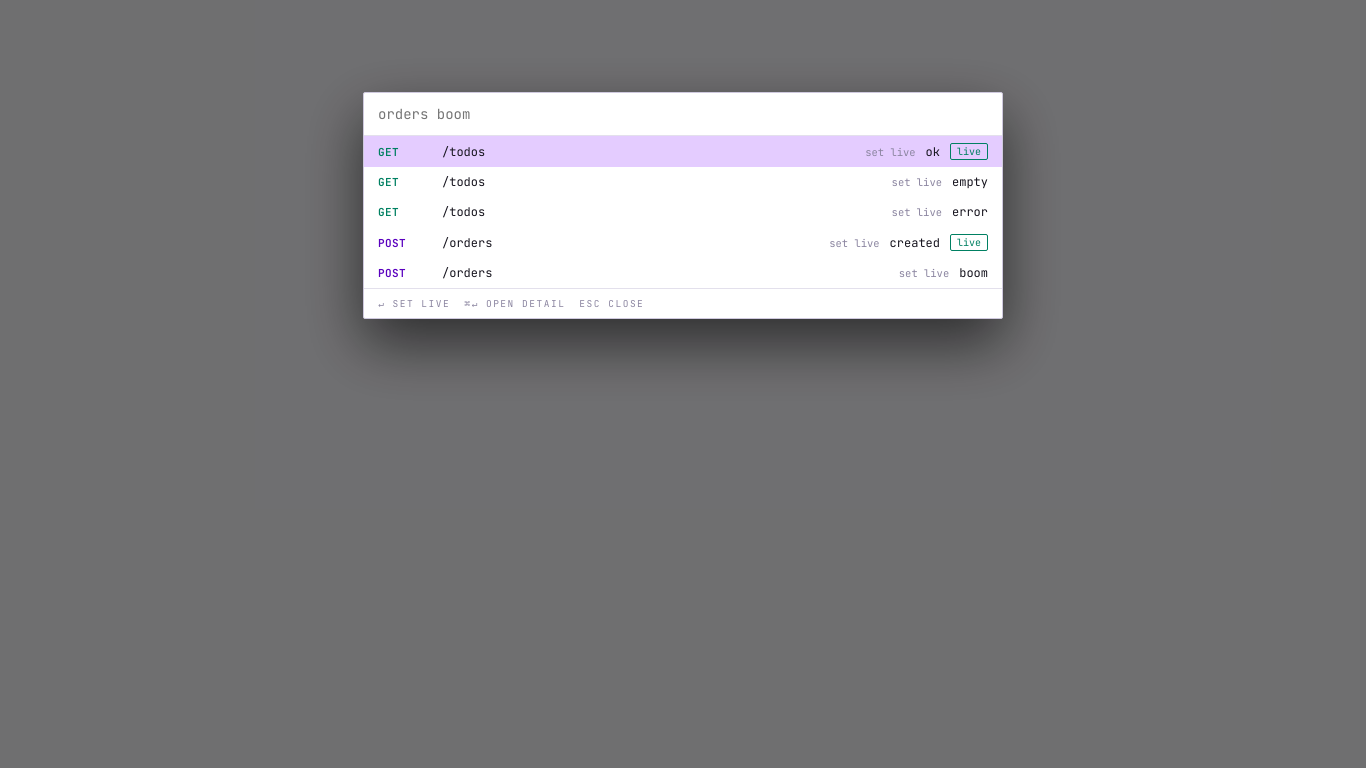
Test: CommandPalette › says so when nothing matches, instead of showing an empty box
Type "nothing-like-this" into the field named "command" at (683, 115), box x1=364 y1=93 x2=1002 y2=136
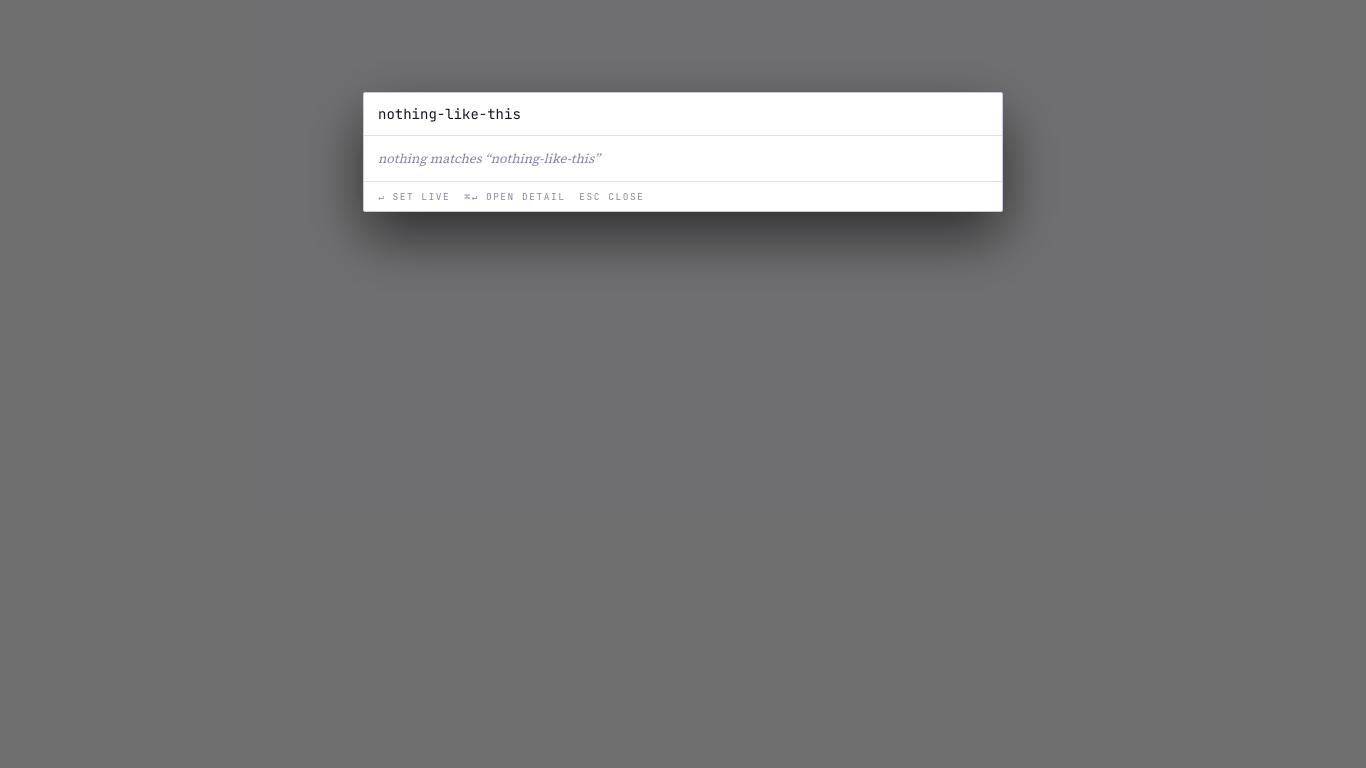
Expected: the text "nothing matches “nothing-like-this”" is shown, x1=378 y1=150 x2=600 y2=167
